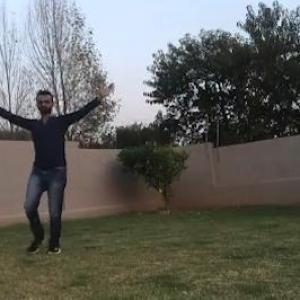takeoff: (1, 84, 119, 253)
